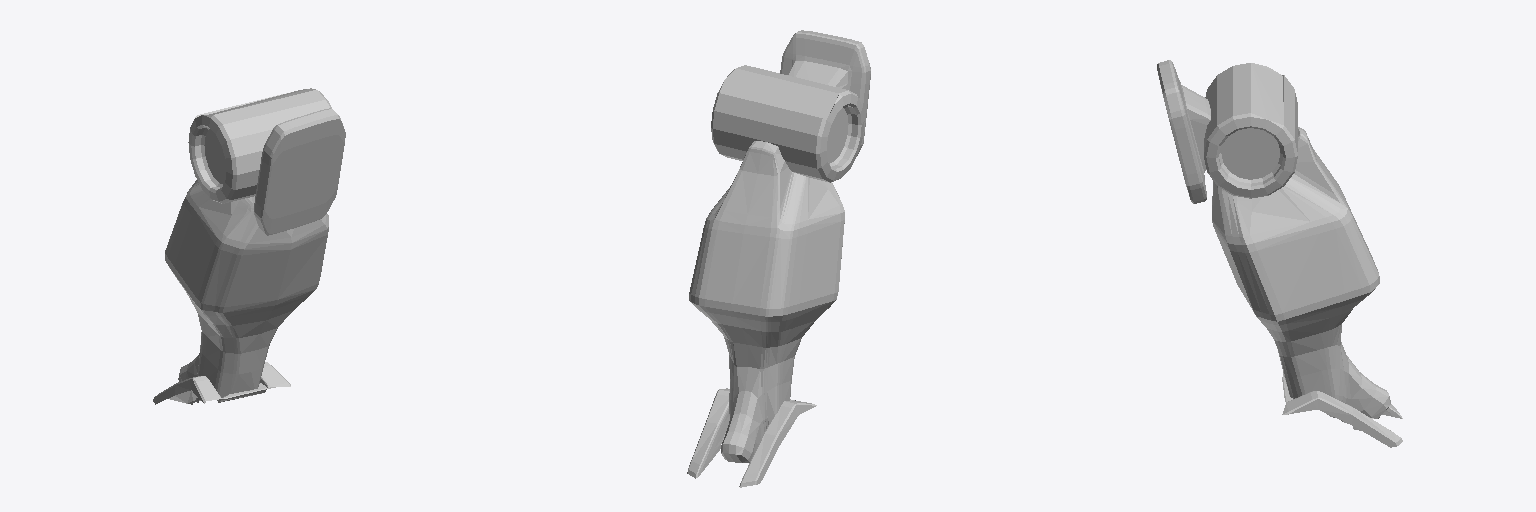
File: Pierna_Derecha.obj
3 renders of one model, left to right at view 1: azimuth 30°, elevation 25°; view 2: azimuth 150°, elevation 25°; view 3: azimuth 270°, elevation 25°, orthographic.
Visible parts, largest first — view 1: rig_test.001; view 2: rig_test.001; view 3: rig_test.001.
Part boxes in pixels (bbox=[...]): rig_test.001: bbox=[153, 88, 345, 404]; rig_test.001: bbox=[687, 30, 870, 487]; rig_test.001: bbox=[1157, 60, 1402, 447].
Size of the model in its own units: 12.65 by 34.8 by 21.56.